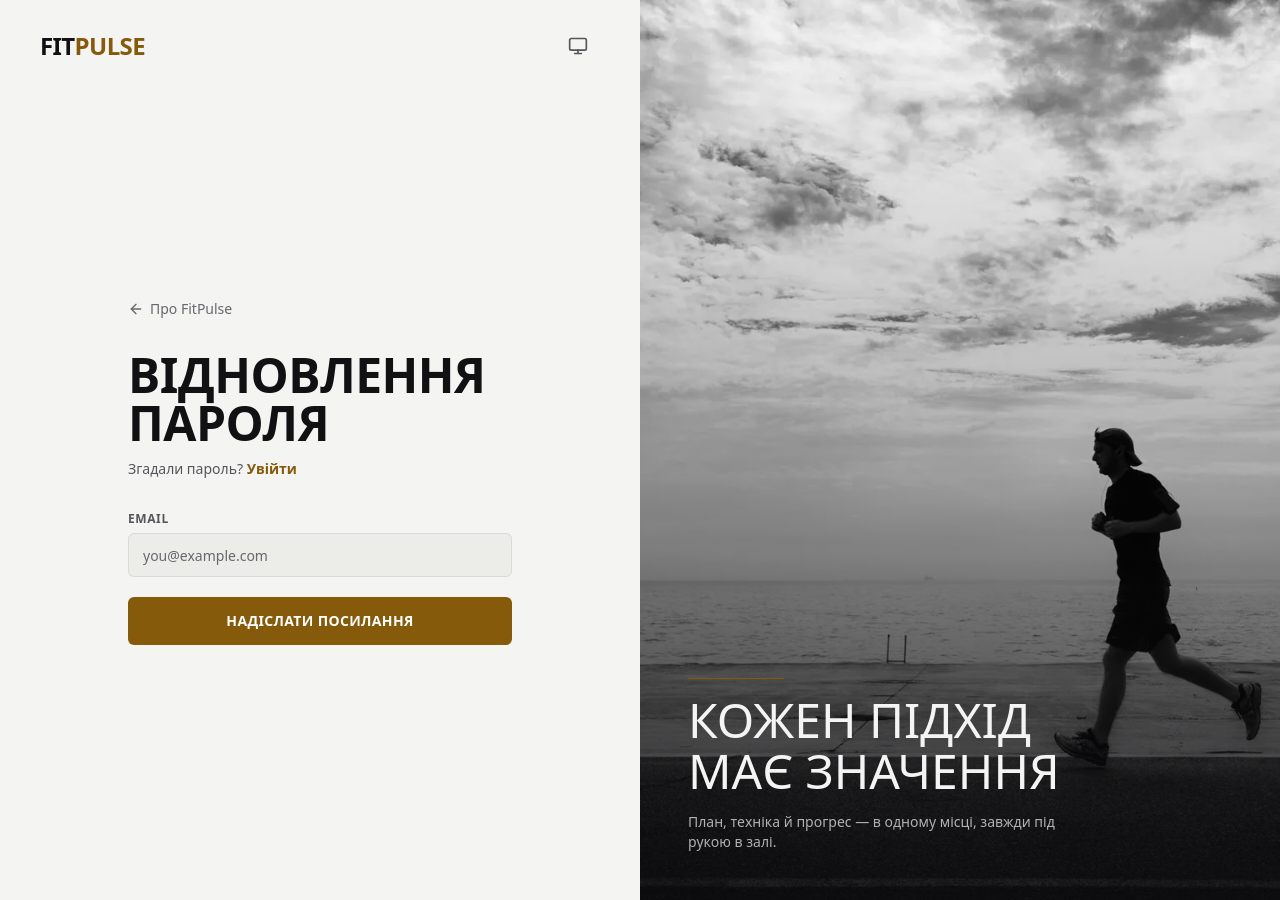
Scenario: ForgotPasswordPage › asks for a valid email first
Click the button "Надіслати посилання" at (320, 621), box [128, 597, 512, 645]
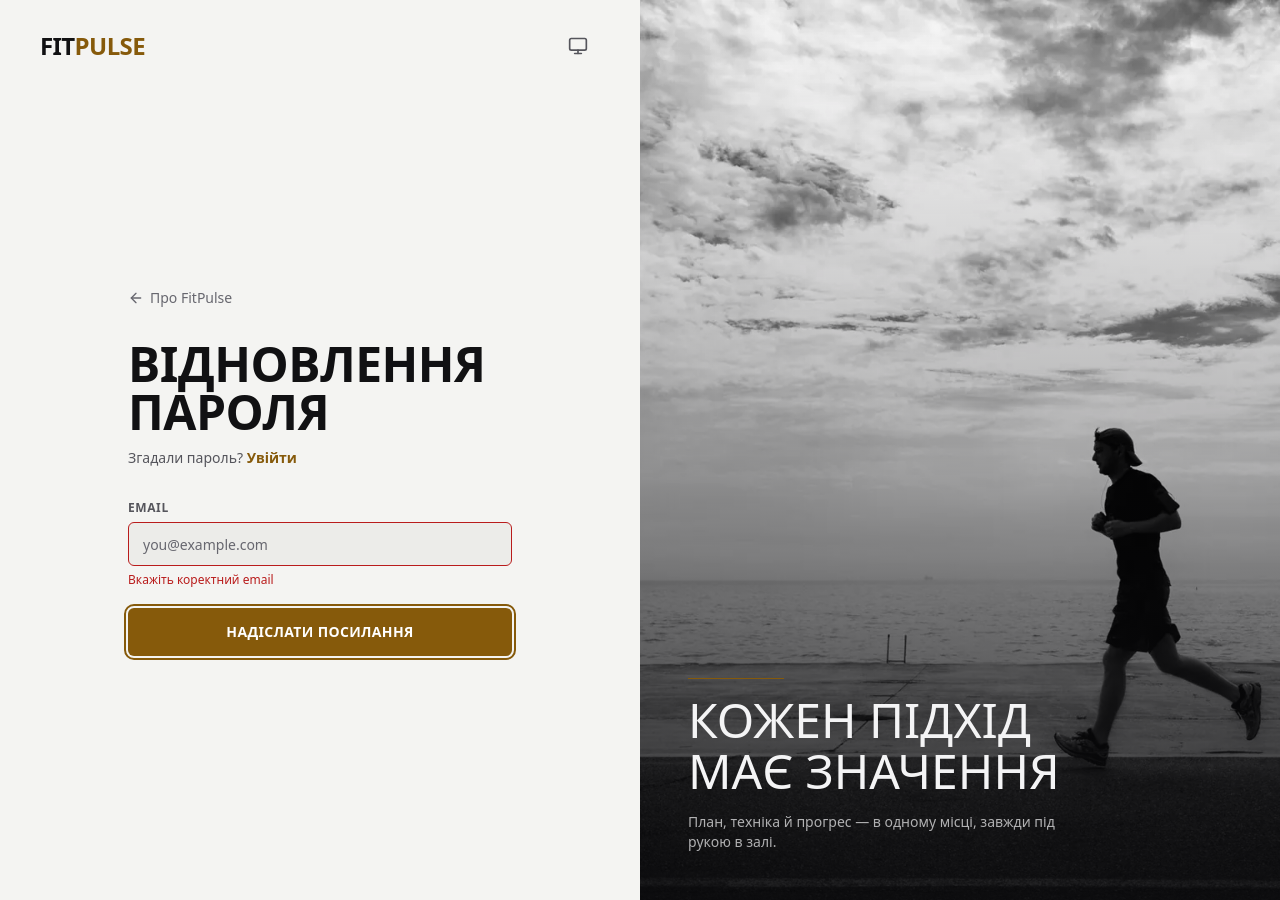
Now the text "Вкажіть коректний email" is shown, box [128, 571, 274, 588]
